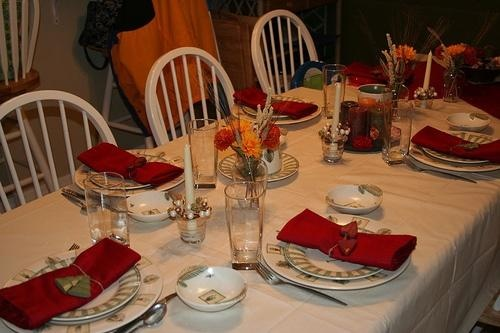chair: (1, 81, 126, 219), (1, 3, 48, 221), (143, 46, 242, 149), (246, 8, 330, 100)
diningtable: (2, 58, 499, 333)
